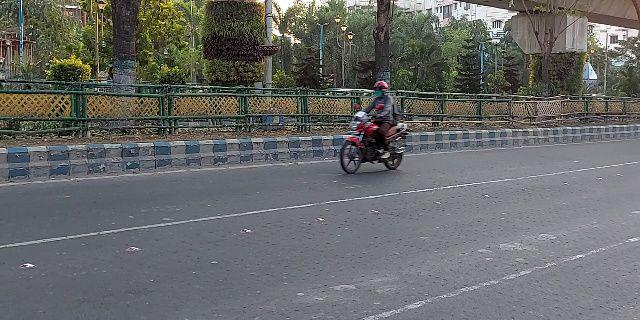Motorbike: (336, 82, 408, 178)
